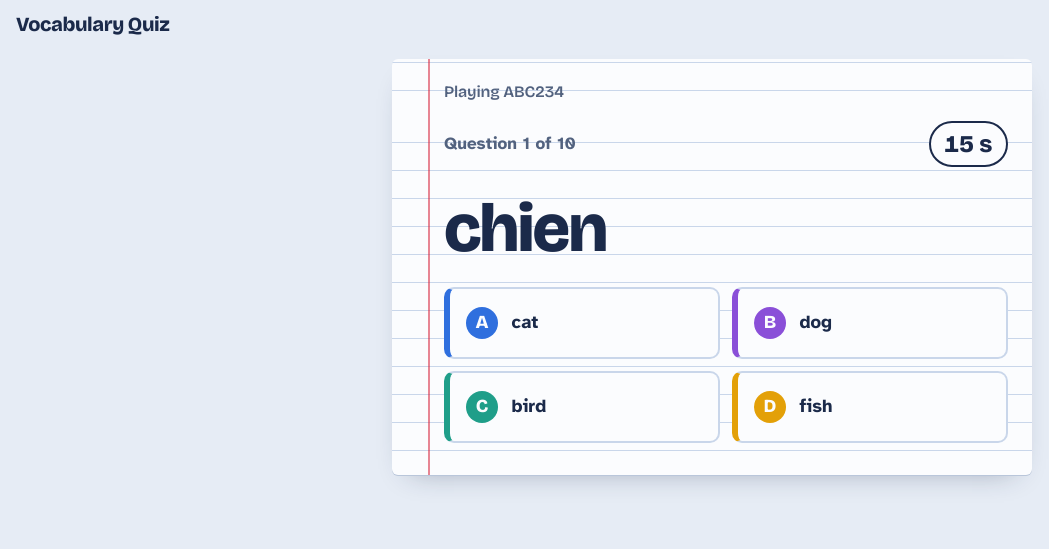
Player view (AC32) › keeps the options disabled after a final rejection (NotEligible)
Click the button "cat" at {"x": 525, "y": 322}, box [444,287,720,359]
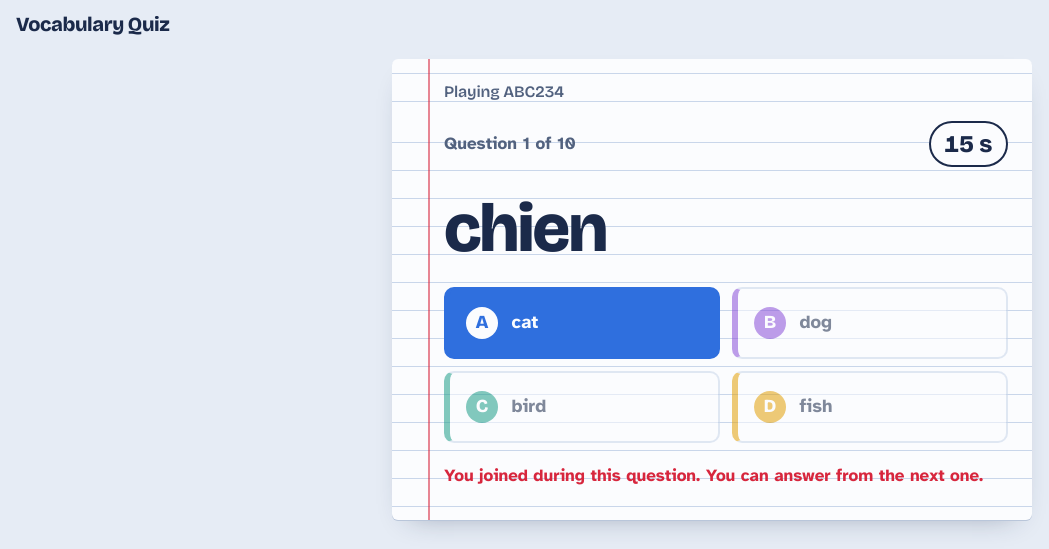
Check: the message "You joined during this question. You can answer from the next one." is shown, box [444,463,1008,488]
Check: the button "cat" is disabled, box [444,287,720,359]
Check: the button "dog" is disabled, box [732,287,1008,359]
